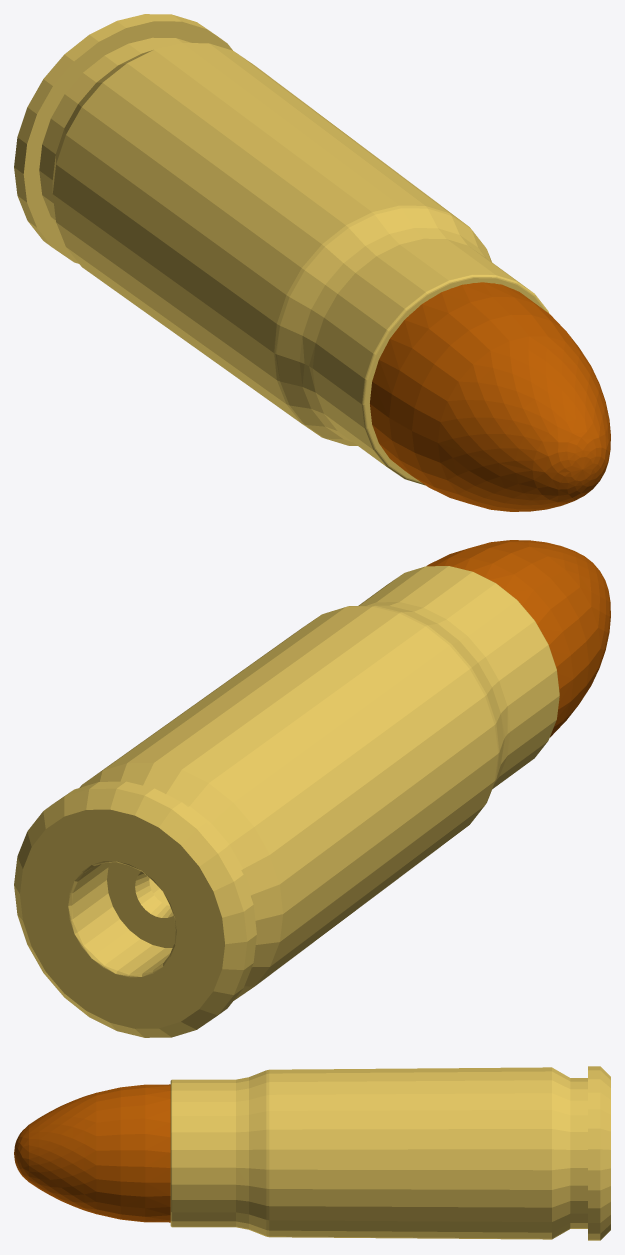
The model's file is LoadedCartridge.fbx.
3 views of the same model, one above another, from view 1: azimuth 30°, elevation 25°; view 2: azimuth 150°, elevation 25°; view 3: azimuth 270°, elevation 25° (orthographic). The views are drawn at different scales.
Parts seen in each view (by area): view 1: Body238, Body239; view 2: Body238, Body239; view 3: Body238, Body239.
Part boxes in pixels (bbox=[...]): Body238: bbox=[14, 14, 549, 485]; Body239: bbox=[370, 282, 610, 511]; Body238: bbox=[14, 566, 559, 1037]; Body239: bbox=[426, 540, 610, 737]; Body238: bbox=[170, 1066, 610, 1240]; Body239: bbox=[14, 1084, 170, 1222].
Size of the model in its own units: 998 by 991 by 3410.
